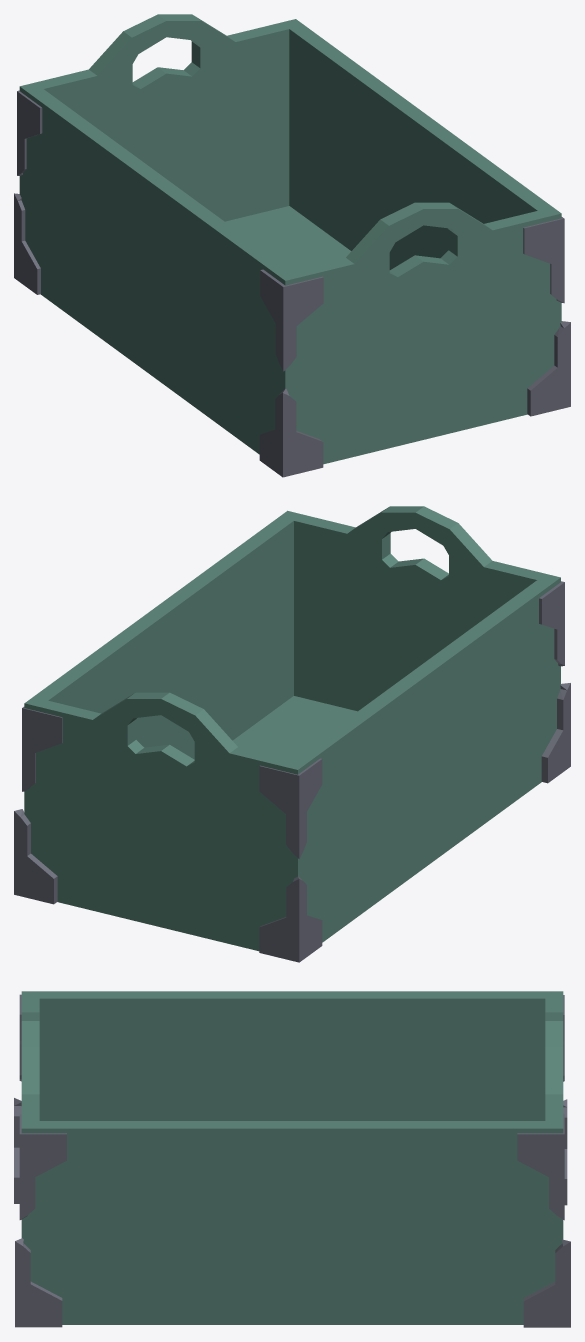
3 views of the same model, one above another, from view 1: azimuth 30°, elevation 25°; view 2: azimuth 150°, elevation 25°; view 3: azimuth 270°, elevation 25° (orthographic). The views are drawn at different scales.
Parts seen in each view (by area): view 1: box1; view 2: box1; view 3: box1.
Boxes of the visible parts, x1,y1,x2,y2 form: box1: (14, 14, 570, 477); box1: (14, 506, 570, 962); box1: (14, 991, 570, 1327).
Size of the model in its own units: 0.4278 by 0.3262 by 0.7.
1 material, 1 textured.
